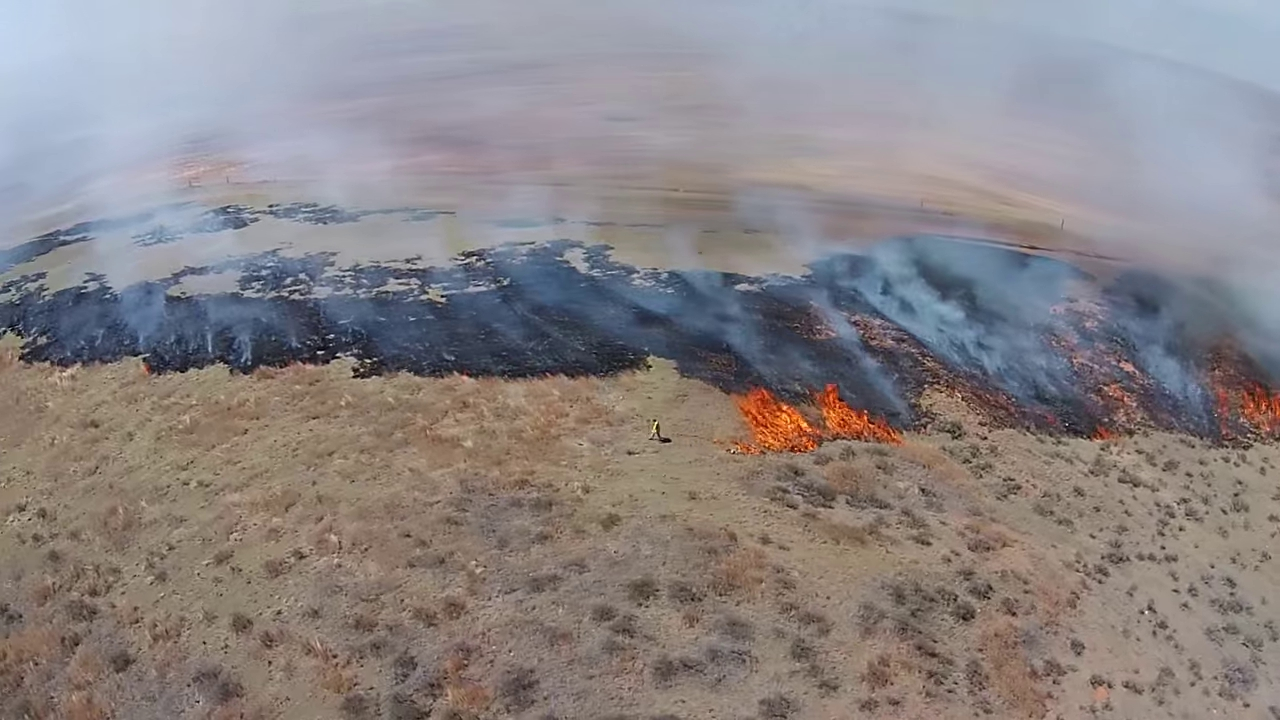forest_fire: (737, 384, 902, 453), (1235, 384, 1279, 435)
